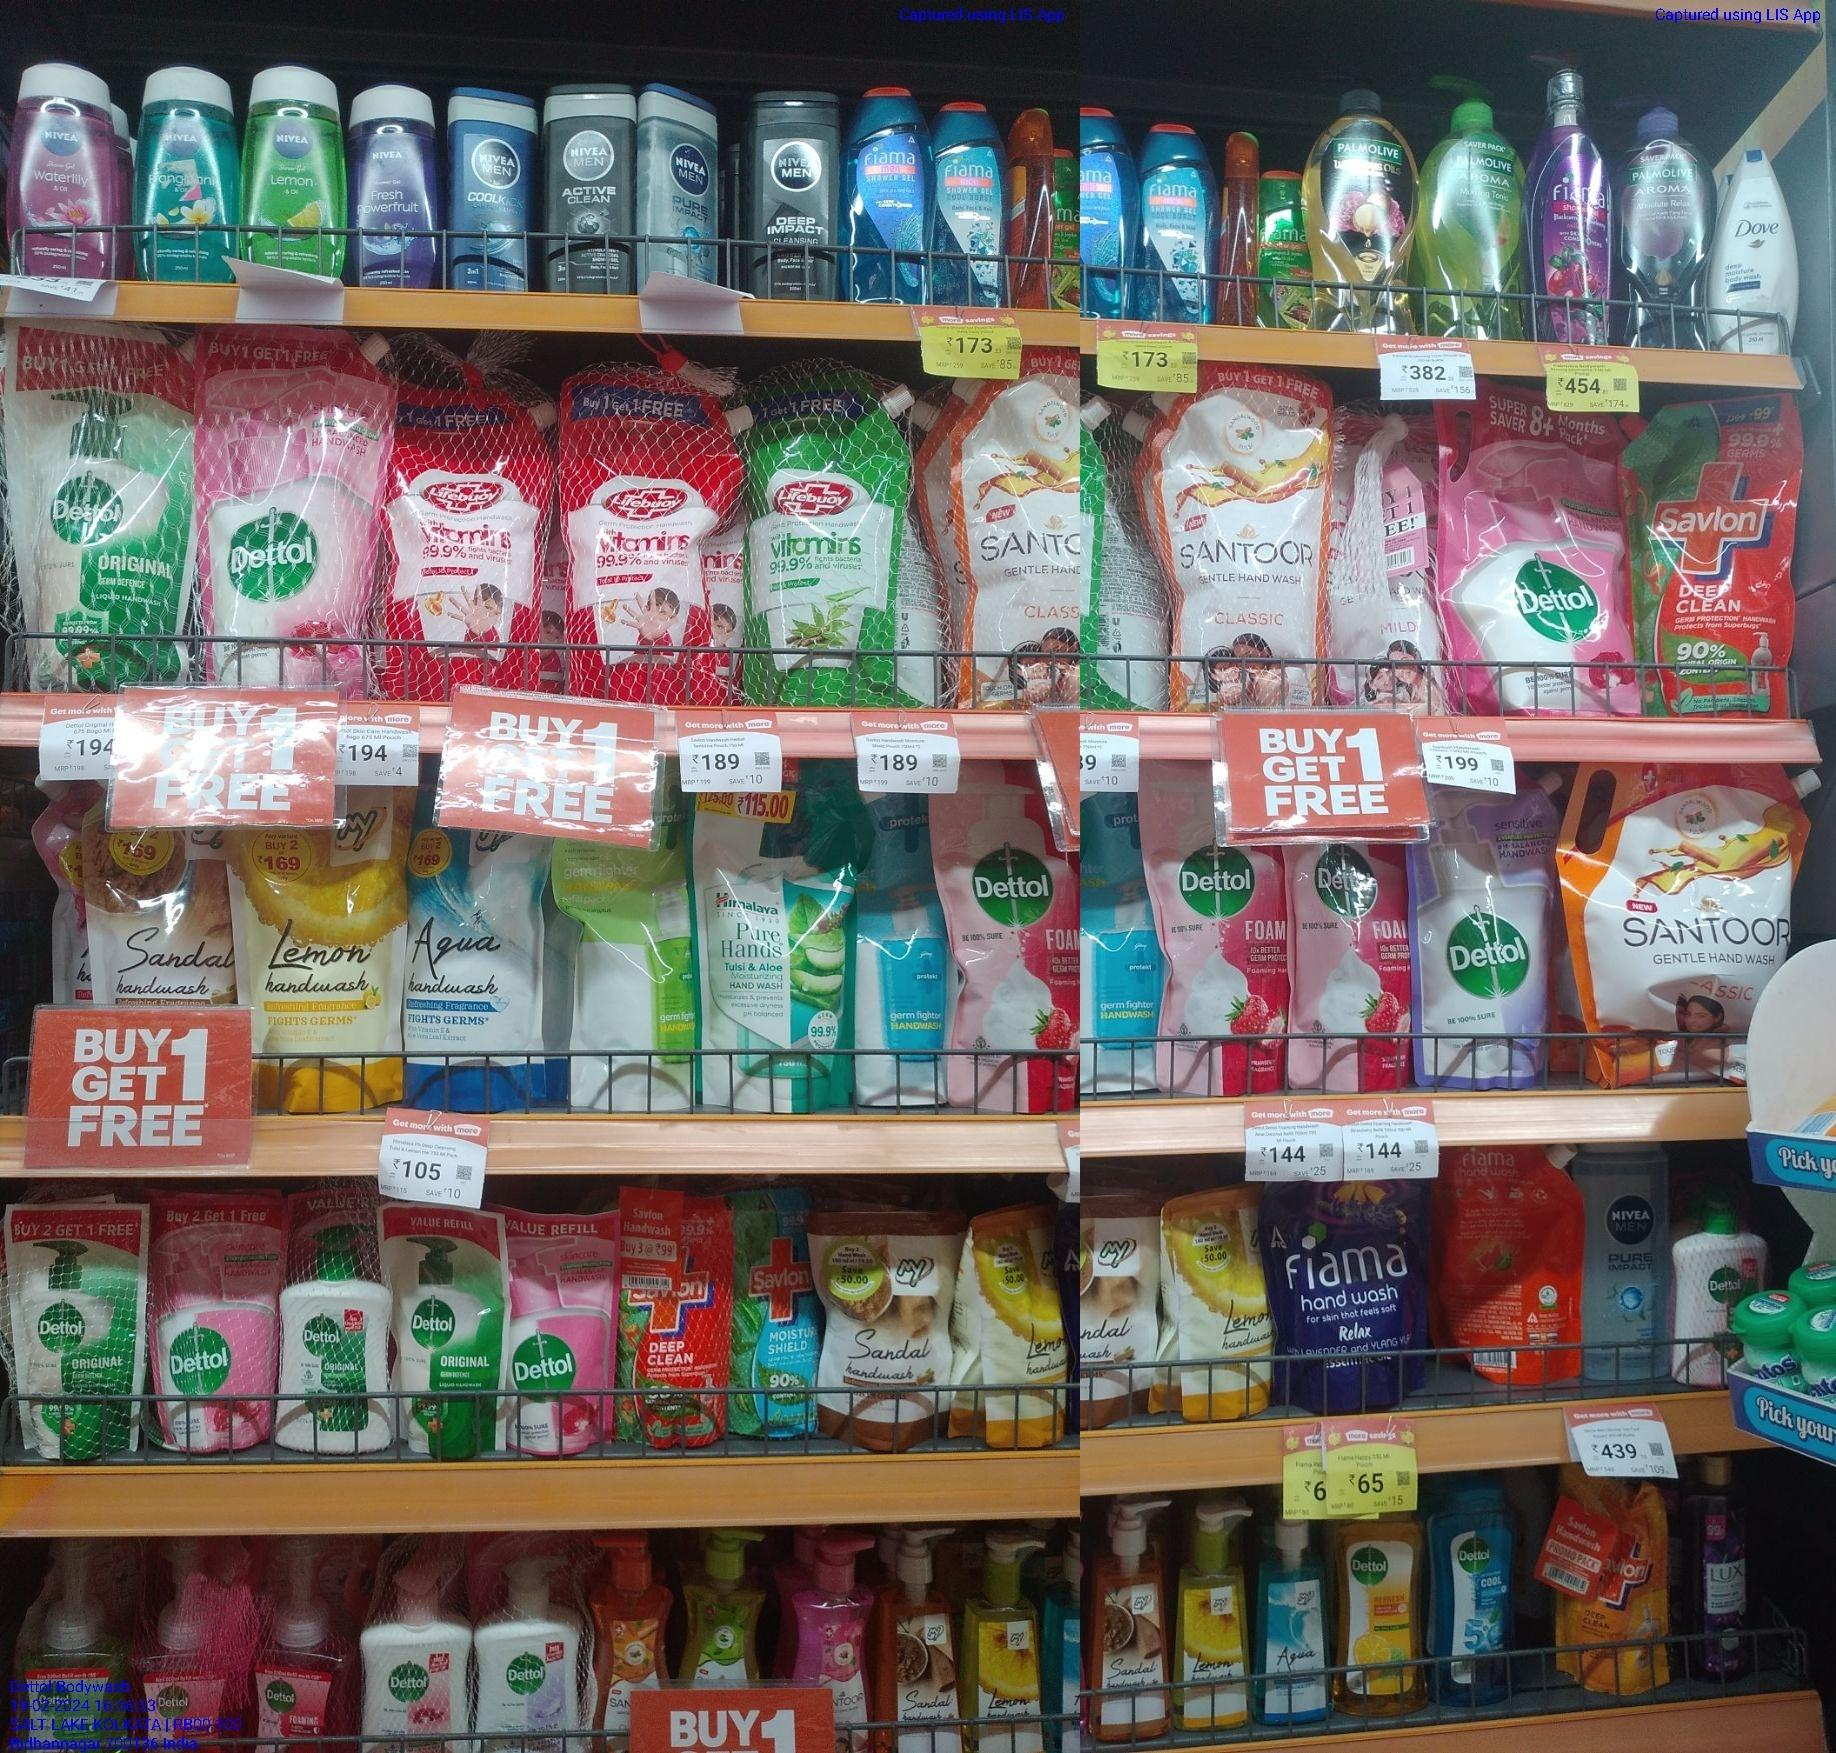Dettol_Bodywash_Cool: (1425, 1479, 1521, 1704)
Dettol_Bodywash_Refresh: (1331, 1517, 1421, 1717)
Dove_Deep_Moisture_Body_Wash_250ML: (1713, 146, 1800, 353)
Lux_Black_Orchid_Scent_and_Juniper_Oil_Body_Wash_245ML: (1684, 1455, 1754, 1678)
Nivea_Shower_Gel_Frangipani_and_Oil_250ML: (131, 64, 241, 280)
Nivea_Shower_Gel_Fresh_Powerfruit_250ML: (349, 77, 439, 290)
Nivea_Shower_Gel_Lemon_and_Oil_250ML: (241, 64, 349, 262)
Nivea_Shower_Gel_Waterlily_and_Oil_250ML: (7, 57, 115, 277)
